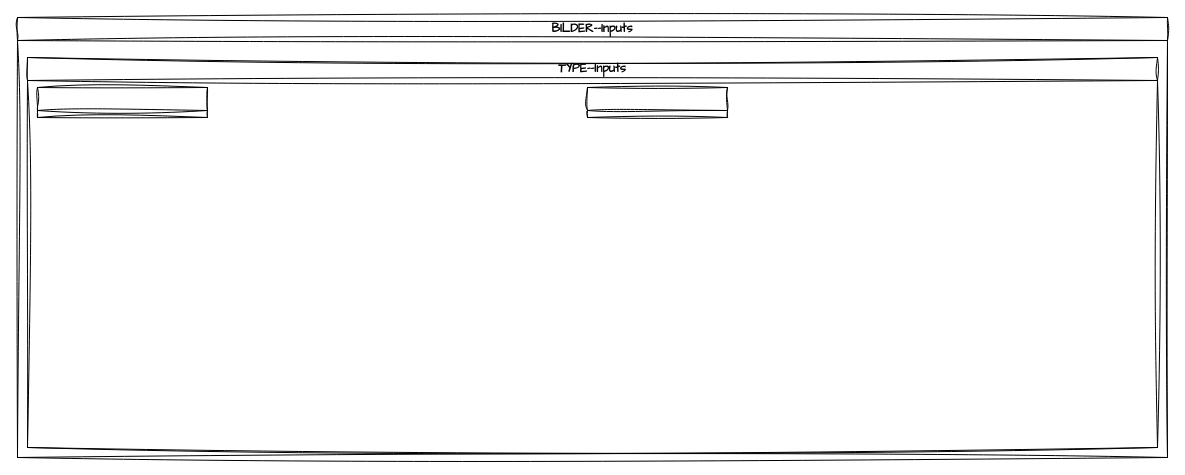
The diagram is 1185 pixels wide and 475 high, and some of its shapes have lost their labels. Here are the shapes that lost their labels. From the top down, the box of each, then its label:
(36, 86, 208, 118): CLASS--Operation-Code
(586, 86, 728, 118): CLASS--Grathical
